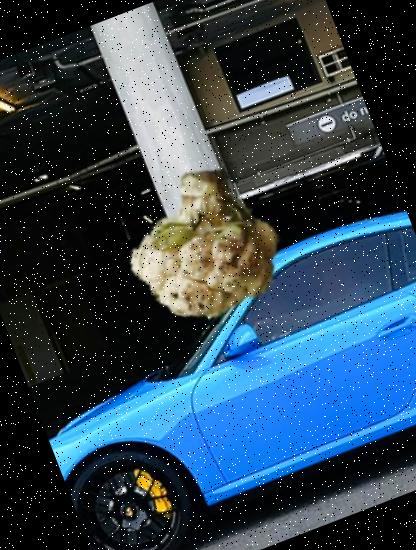Cauliflower: (106, 151, 300, 345)
